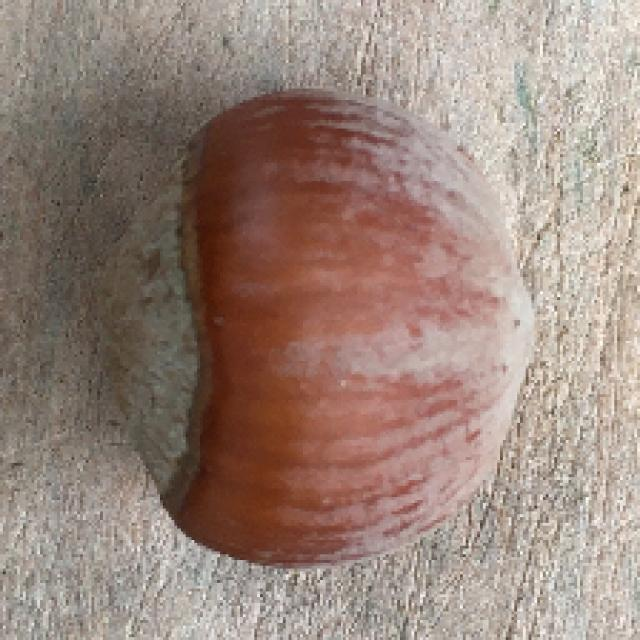qualityHazelnut: (110, 81, 540, 576)
